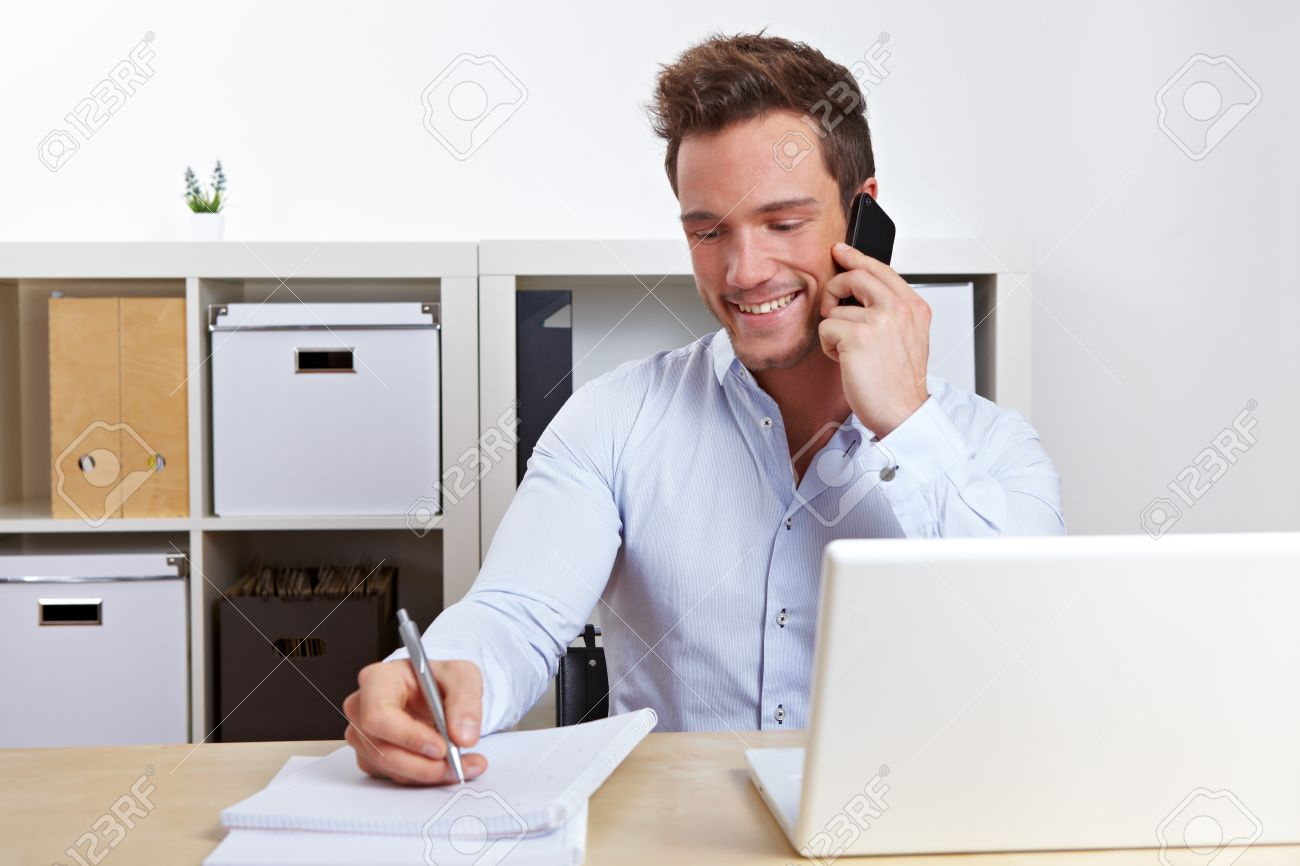phone: (824, 194, 908, 325)
talk: (678, 179, 938, 435)
